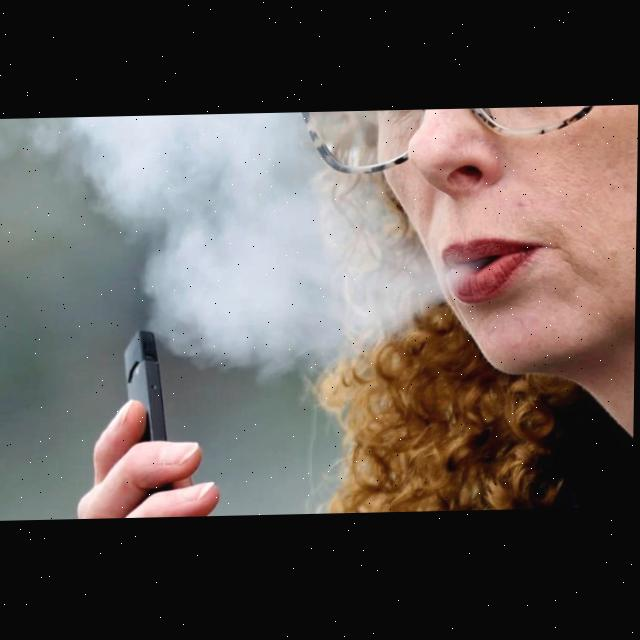vape: (123, 331, 170, 444)
